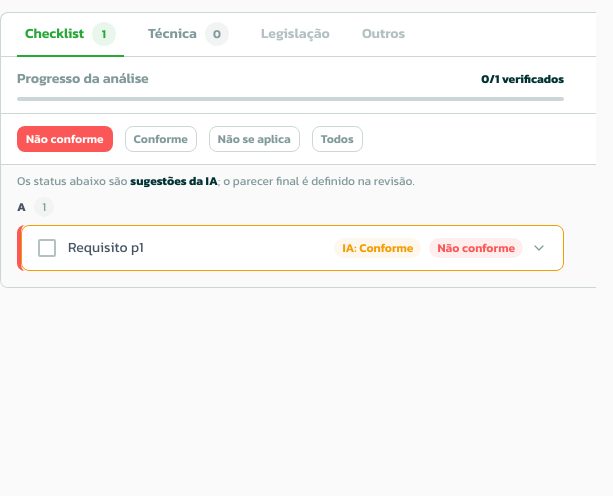
Scenario: PainelRevisao › referência de página (RF-014) › PRONTA_PARA_REVISAO: 'Página N' clicável + botão 'Editar'
The width and height of the screenshot is (613, 496).
Step 1. Click the button "Requisito p1 IA: Conforme Não conforme" → coordinates (106, 248), box [68,238,547,258]
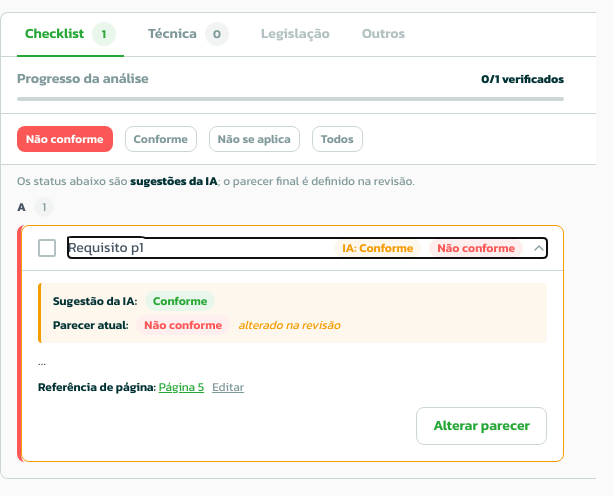
Expected: the button "Página 5" is shown, [159,379,204,395]
Expected: the button "Editar" is shown, [212,379,244,395]
